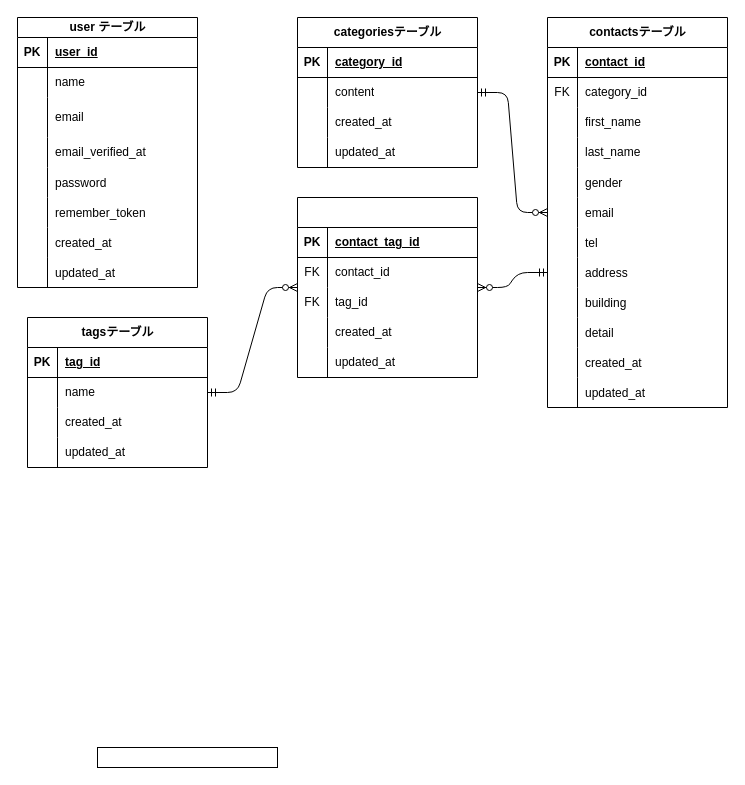
This 745x785 diagram has some shape labels left out. The shapes that lost their labels are listed below. From the top down, each one's box as (x1, y1, x2, y2) in pixels, then its label:
(296, 196, 478, 378): contact_tagテーブル
(96, 746, 278, 768): UNIQUE(contact_id, tag_id)
